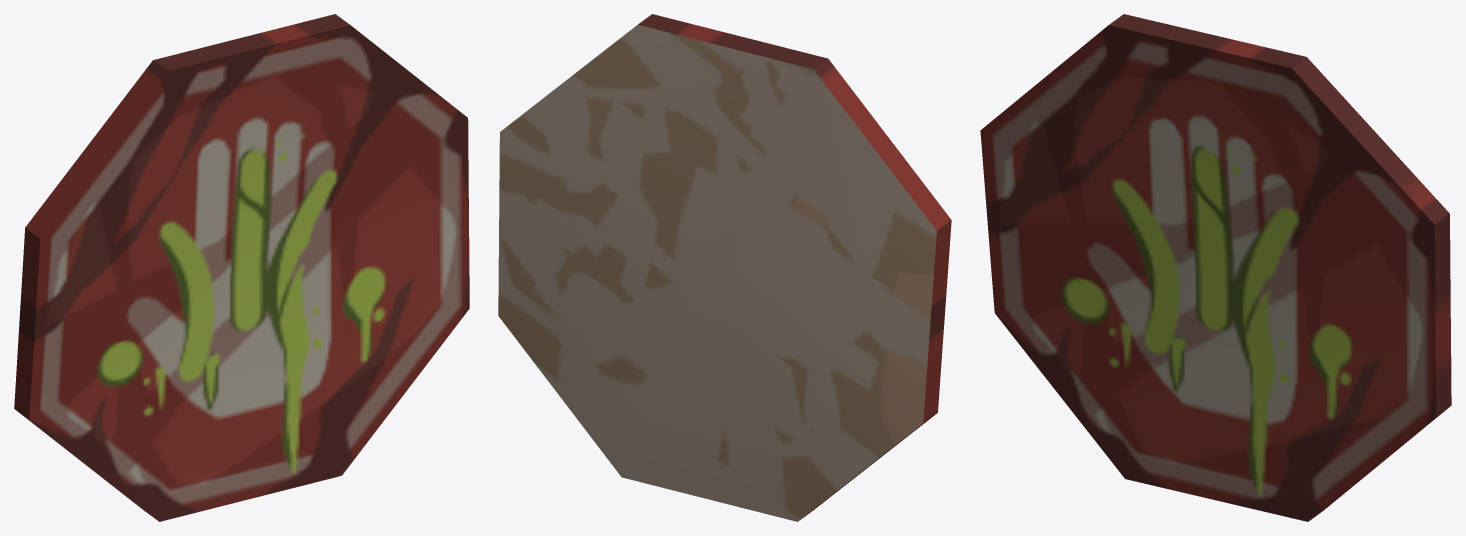
The model's file is SM_Prop_Sign_Warning_03.fbx.
3 views of the same model, side by side, from view 1: azimuth 30°, elevation 25°; view 2: azimuth 150°, elevation 25°; view 3: azimuth 330°, elevation 25° (orthographic). The views are drawn at different scales.
Visible parts, largest first — view 1: SM_Prop_Sign_Warning_03; view 2: SM_Prop_Sign_Warning_03; view 3: SM_Prop_Sign_Warning_03.
Boxes of the visible parts, x1=… form: SM_Prop_Sign_Warning_03: x1=14, y1=14, x2=469, y2=521; SM_Prop_Sign_Warning_03: x1=498, y1=14, x2=951, y2=521; SM_Prop_Sign_Warning_03: x1=980, y1=14, x2=1451, y2=521.
Bounding box in the file's own units: 106 × 106 × 11.49.
